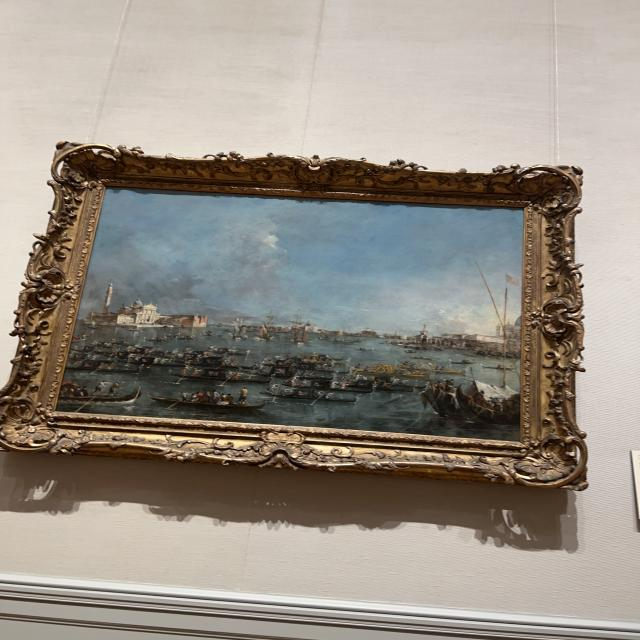ships: (71, 197, 524, 430)
